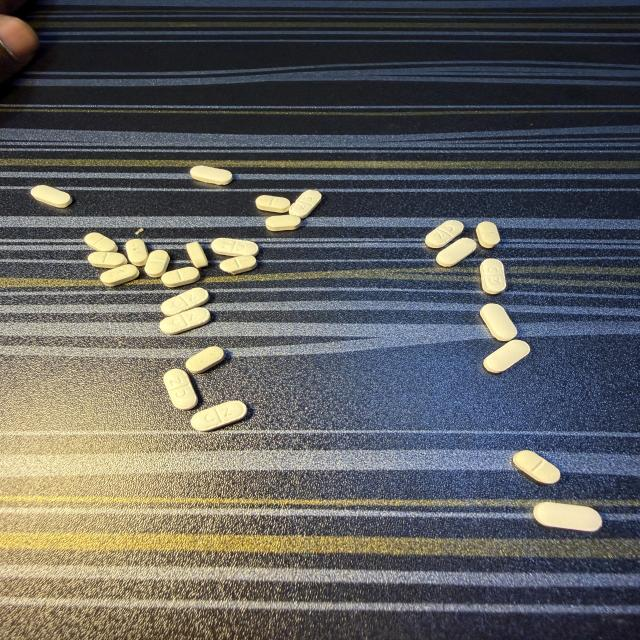pill: (534, 502, 602, 531), (191, 401, 246, 431), (513, 450, 560, 484), (483, 340, 530, 373), (480, 304, 517, 341), (164, 369, 198, 409), (160, 308, 210, 335), (161, 288, 209, 316), (436, 238, 476, 267), (425, 220, 463, 248), (186, 347, 224, 373), (480, 259, 506, 294), (31, 185, 72, 207), (289, 190, 321, 218), (100, 264, 139, 286), (212, 238, 259, 256), (190, 166, 232, 185), (162, 267, 200, 287), (144, 250, 170, 278), (476, 221, 500, 248), (220, 256, 256, 274), (84, 233, 117, 252), (88, 252, 127, 268), (256, 195, 290, 213), (126, 239, 148, 266), (186, 242, 208, 268), (266, 215, 301, 231), (135, 228, 144, 234)
